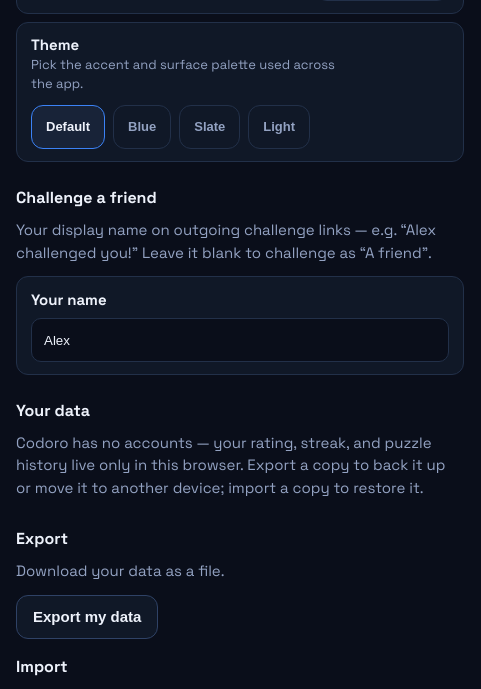
Test case: SettingsPage › Challenge a friend (challenge redesign) — challengerName is editable here, not set-once › typing a new name and blurring persists it, replacing an old saved value
(page scrolled)
Replace the text in the field showing "Alex" with "Sam" at (240, 340), box [31,318,449,362]
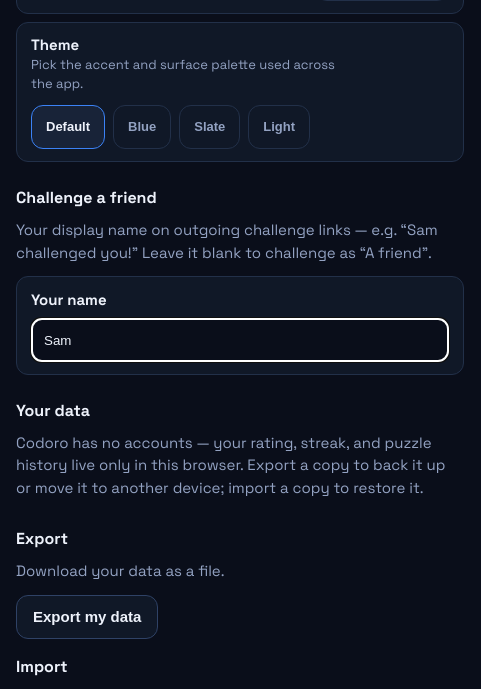
Press Tab
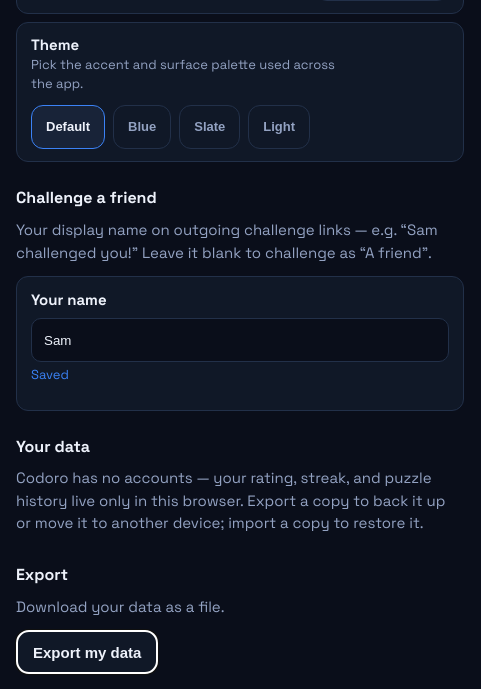
Expected: the message reads "Saved", [31,366,69,383]
